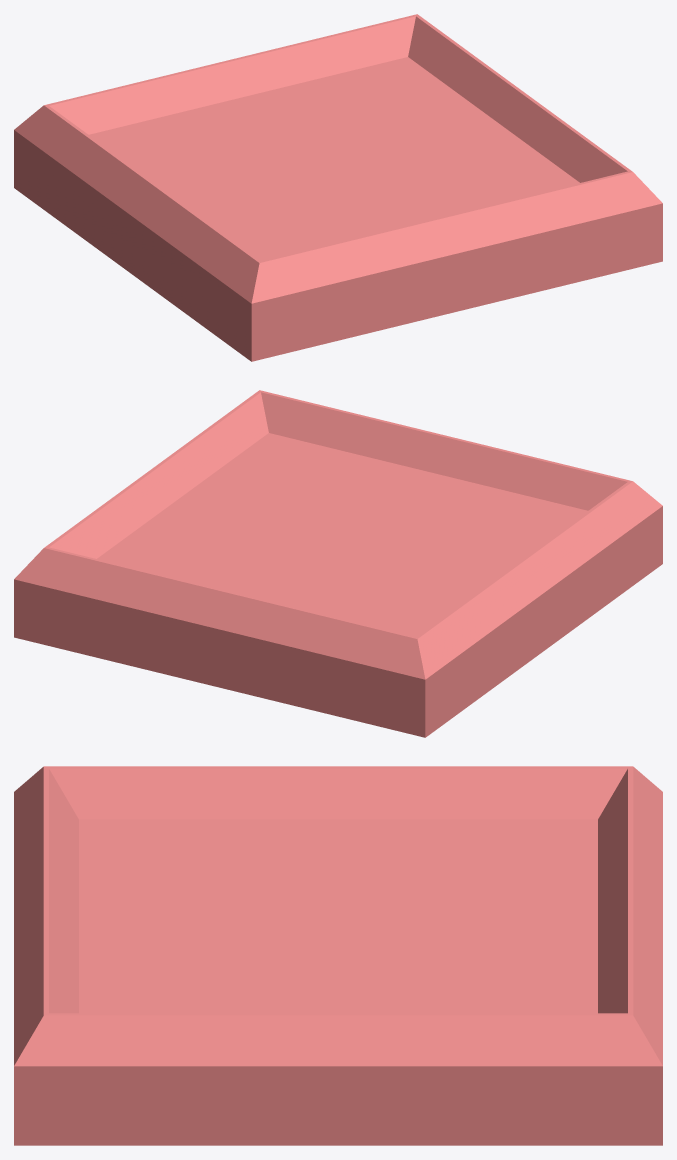
Rendered from Light_DengPian1_1X1_off.FBX.
3 views of the same model, one above another, from view 1: azimuth 30°, elevation 25°; view 2: azimuth 150°, elevation 25°; view 3: azimuth 270°, elevation 25° (orthographic). The views are drawn at different scales.
Parts seen in each view (by area): view 1: Box001; view 2: Box001; view 3: Box001.
Part boxes in pixels (left/top/right/bottom): Box001: left=14, top=14, right=662, bottom=361; Box001: left=14, top=390, right=662, bottom=737; Box001: left=14, top=766, right=662, bottom=1145.
Size of the model in its own units: 1 by 0.2 by 1.
